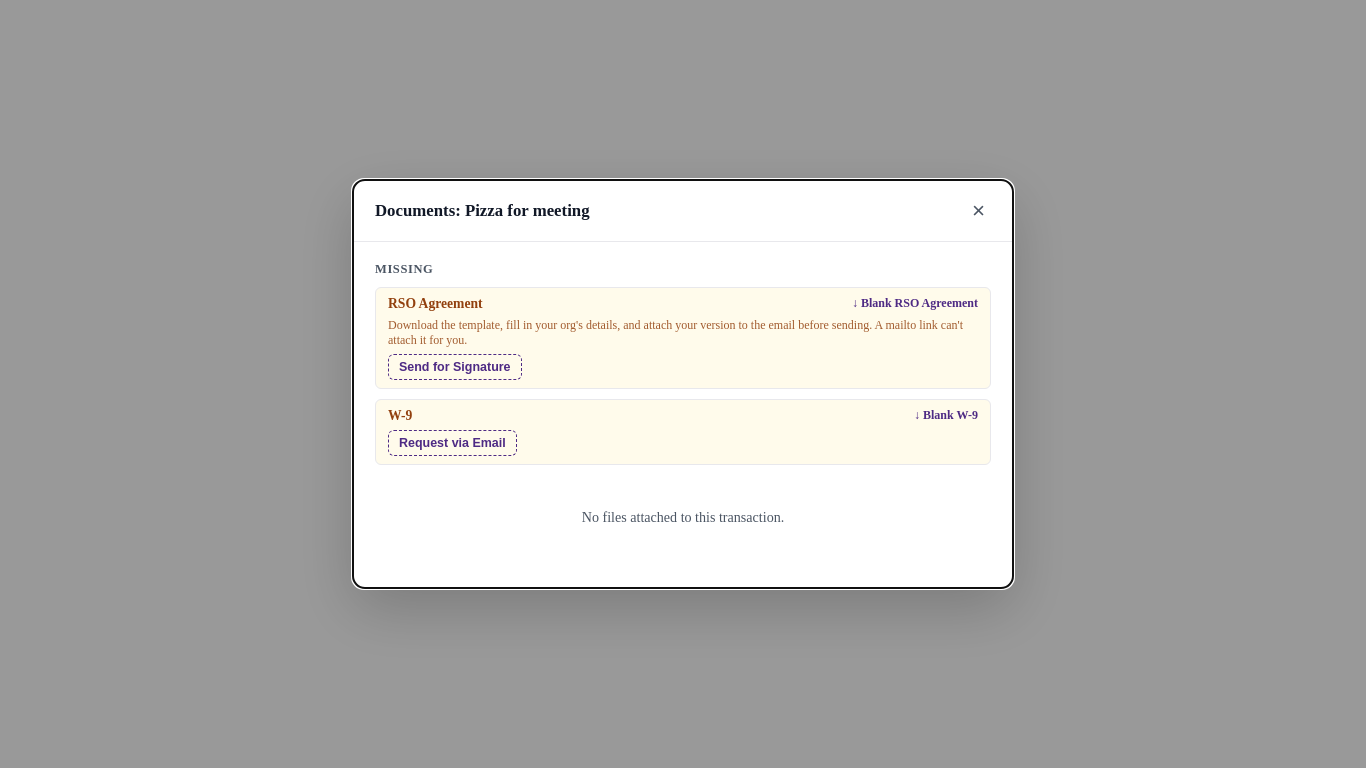
TransactionFilesModal › missing documents › shows an error message when the request fails
The width and height of the screenshot is (1366, 768).
Step 1. Click the button "Request via Email" → [452, 443], box [388, 430, 517, 456]
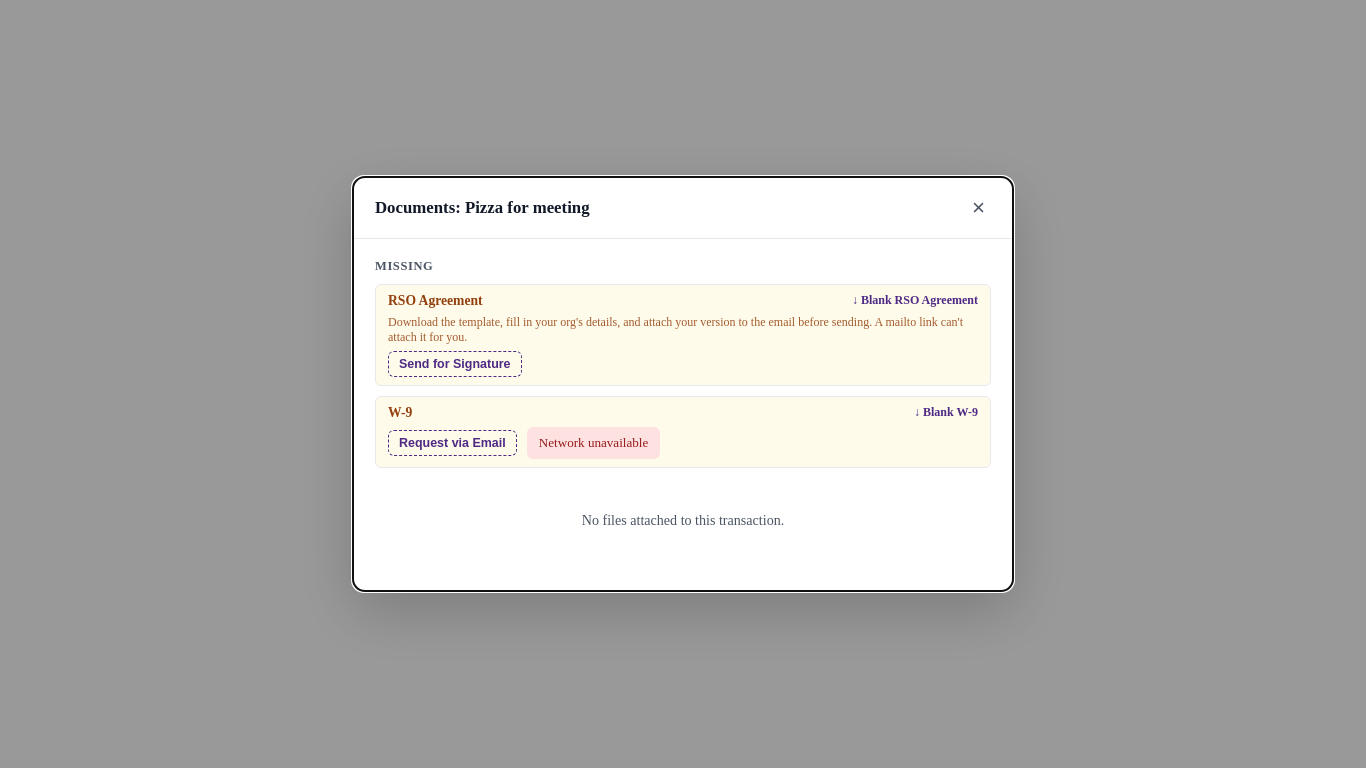
Check: the text "Network unavailable" is shown, box [527, 427, 660, 459]
